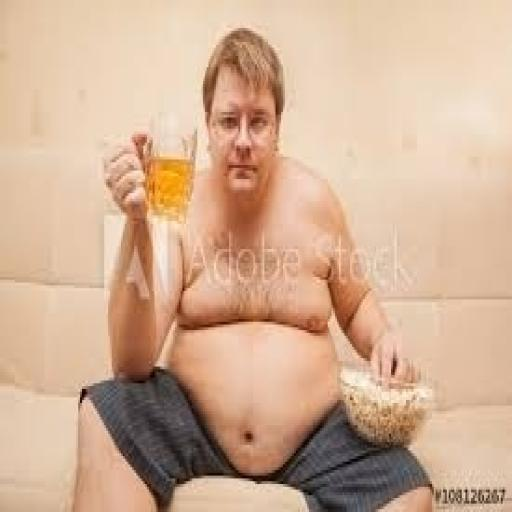drinking: (140, 109, 197, 221)
